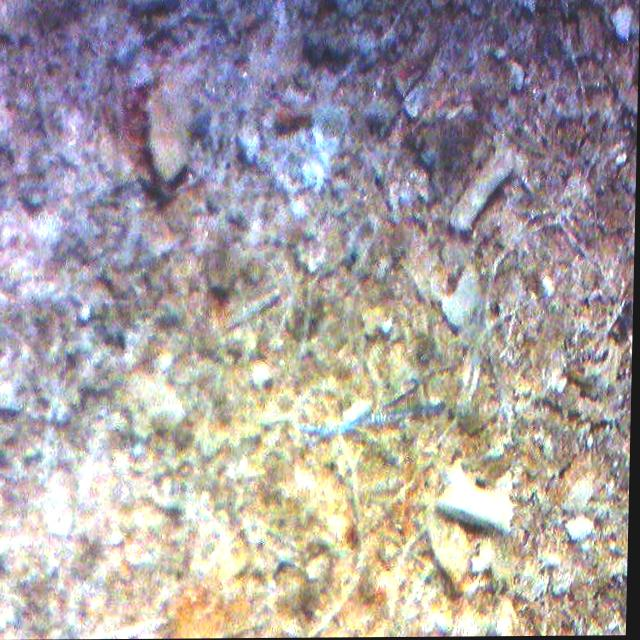microplastic: (304, 405, 445, 446)
